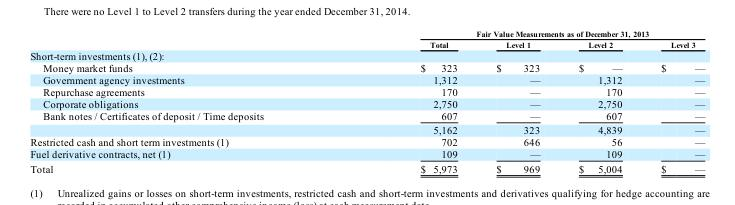table: (29, 28, 704, 174)
table column: (29, 28, 341, 174), (341, 28, 476, 174), (558, 28, 641, 174), (476, 28, 558, 174), (641, 28, 704, 174)
table column header: (29, 28, 704, 49)
table projected row header: (29, 49, 704, 61)
table row: (29, 147, 704, 161), (29, 109, 704, 122), (29, 122, 704, 135), (29, 161, 704, 174), (29, 49, 704, 61), (29, 61, 704, 73), (29, 73, 704, 85), (29, 85, 704, 97), (29, 97, 704, 109), (29, 135, 704, 147), (29, 38, 704, 49), (29, 28, 704, 38)
table spanning cell: (341, 28, 704, 38)
